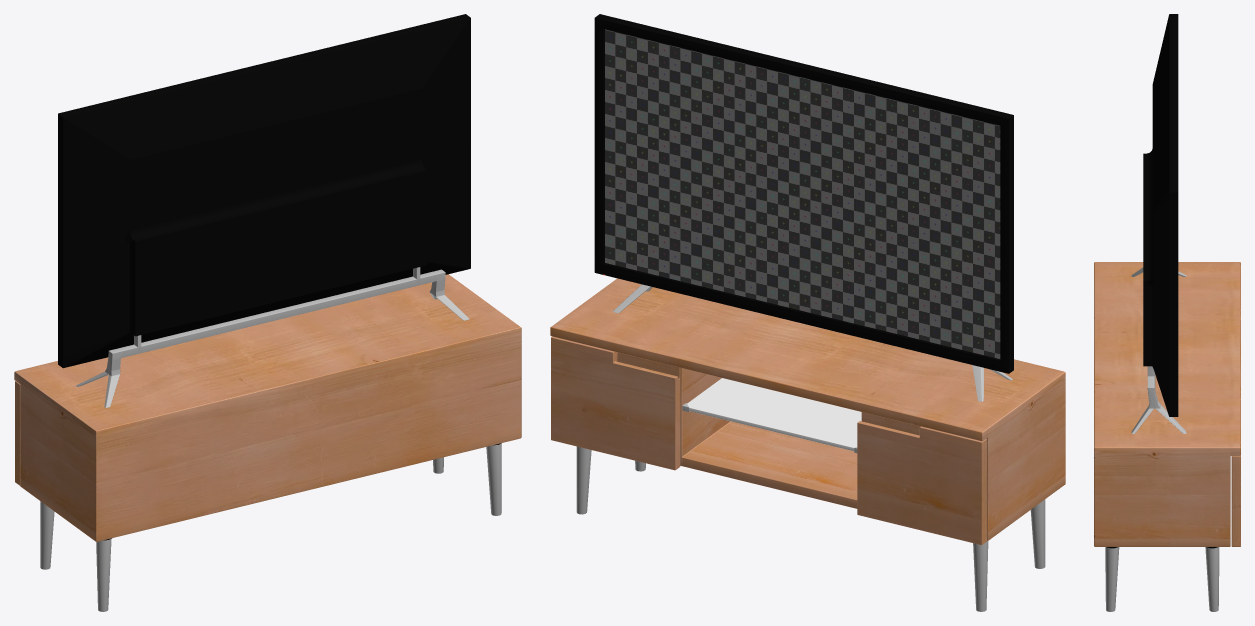
Rendered from SmartTv-transformed.glb.
The picture shows the model from 3 angles, left to right: view 1: azimuth 30°, elevation 25°; view 2: azimuth 150°, elevation 25°; view 3: azimuth 270°, elevation 25°; orthographic projection. The views are drawn at different scales.
Parts seen in each view (by area): view 1: Cube; view 2: Cube; view 3: Cube.
Boxes of the visible parts, x1,y1,x2,y2 form: Cube: [14, 14, 521, 611]; Cube: [550, 14, 1065, 611]; Cube: [1094, 14, 1240, 611].
Bounding box in the file's own units: 1.97 × 2.08 × 0.6565.
Materials: 7 (2 with a texture image).
